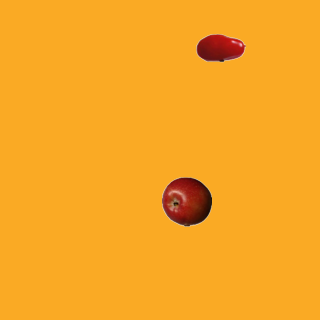Apple Braeburn: (161, 176, 211, 226)
Tomato 2: (195, 22, 245, 72)
